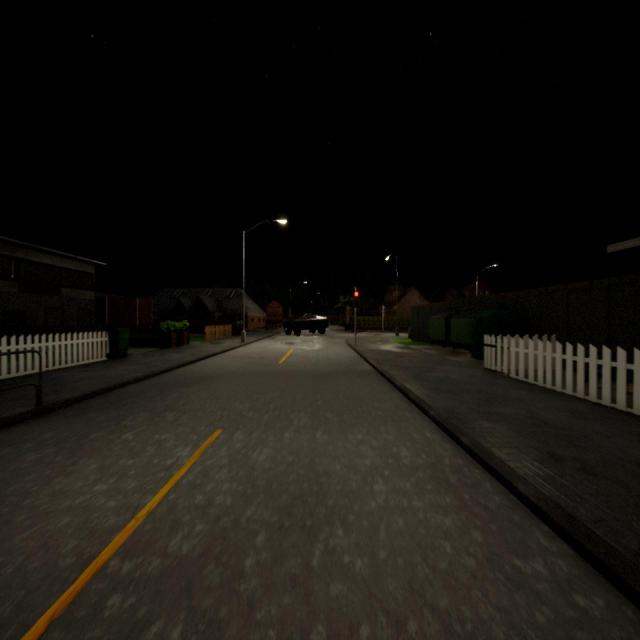Vehicle: (282, 314, 328, 336)
traffic_light: (354, 290, 358, 308), (383, 308, 386, 315)
